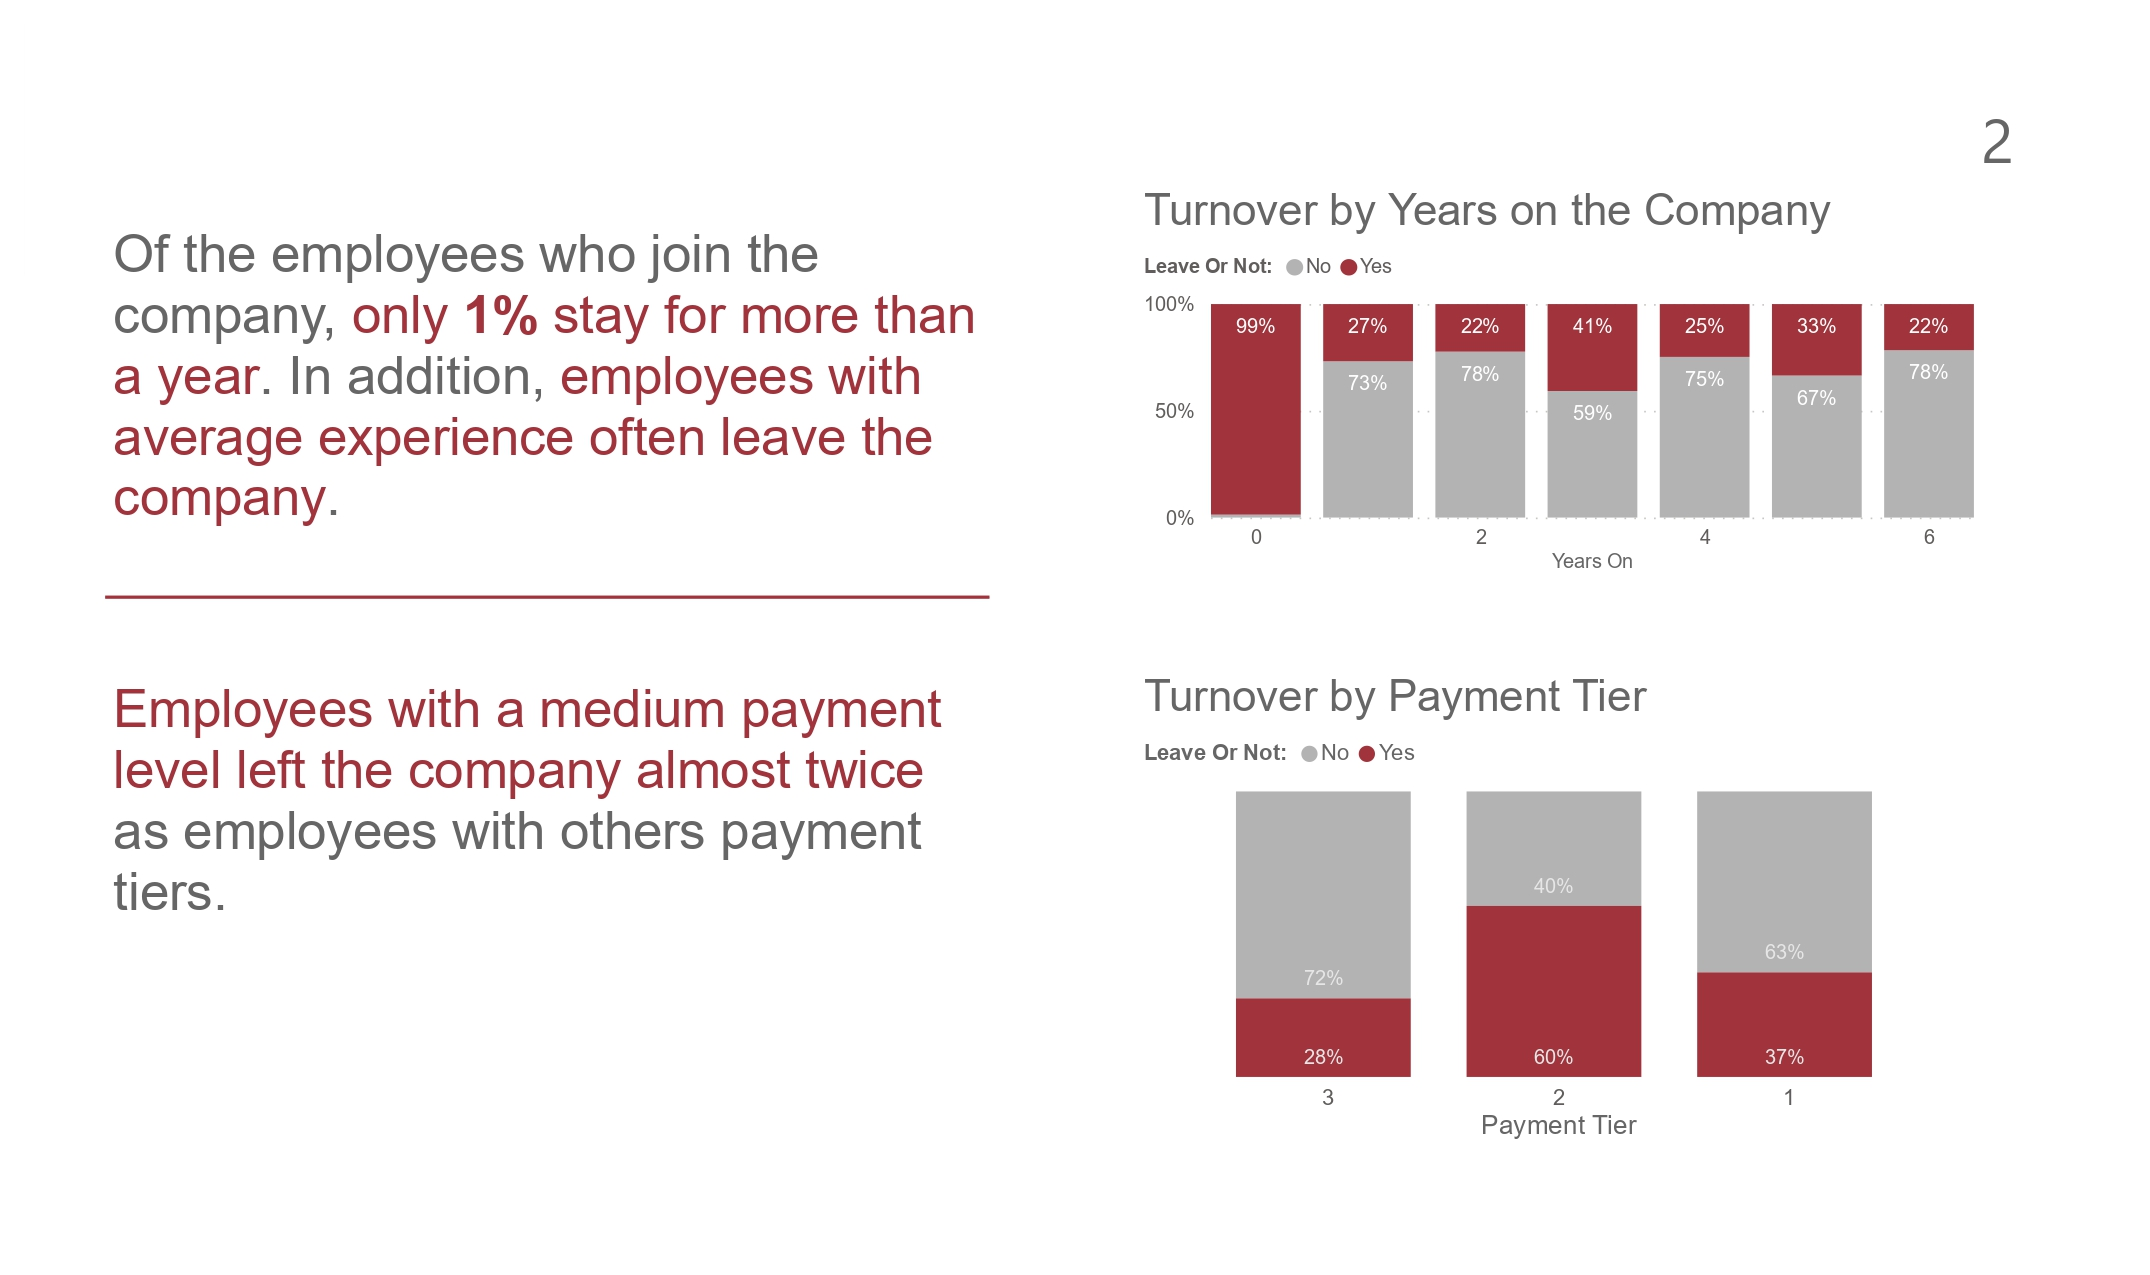

Layout of this report page (visuals, bound fields, positions):
{"tool":"powerbi","page":{"name":"Página 2","canvas":[1280,720],"ordinal":1},"visuals":[{"type":"hundredPercentStackedColumnChart","title":"Turnover by Payment Tier","fields":{"Y":["CountNonNull(Employee.LeaveOrNot)"],"Series":["Employee.LeaveOrNot"],"Category":["Employee.PaymentTier"]},"box":[676.9,380.8,515.9,290.3],"z":0},{"type":"hundredPercentStackedColumnChart","title":"Turnover by Years on the Company","fields":{"Category":["Employee.years_on"],"Series":["Employee.LeaveOrNot"],"Y":["CountNonNull(Employee.LeaveOrNot)"]},"box":[676.9,84.8,515.9,241.4],"z":3000},{"type":"textbox","box":[48.9,102.9,538.9,250.1],"z":3001},{"type":"textbox","box":[48.9,380.3,538.9,250.1],"z":3002},{"type":"shape","box":[48.9,321.9,538.9,27.3],"z":3003},{"type":"textbox","box":[1187.1,25.9,34.5,58.9],"z":3004}]}

Visuals, with their boxes on the page's 1280x720 design canvas (x1, y1, x2, y2). These are canvas units, not pixel positions in the 2150x1275 screenshot, which may show the page scaled, cropped or inside an application window:
"Turnover by Payment Tier" hundredPercentStackedColumnChart: (x1=677, y1=381, x2=1193, y2=671)
"Turnover by Years on the Company" hundredPercentStackedColumnChart: (x1=677, y1=85, x2=1193, y2=326)
textbox: (x1=49, y1=103, x2=588, y2=353)
textbox: (x1=49, y1=380, x2=588, y2=630)
shape: (x1=49, y1=322, x2=588, y2=349)
textbox: (x1=1187, y1=26, x2=1222, y2=85)
